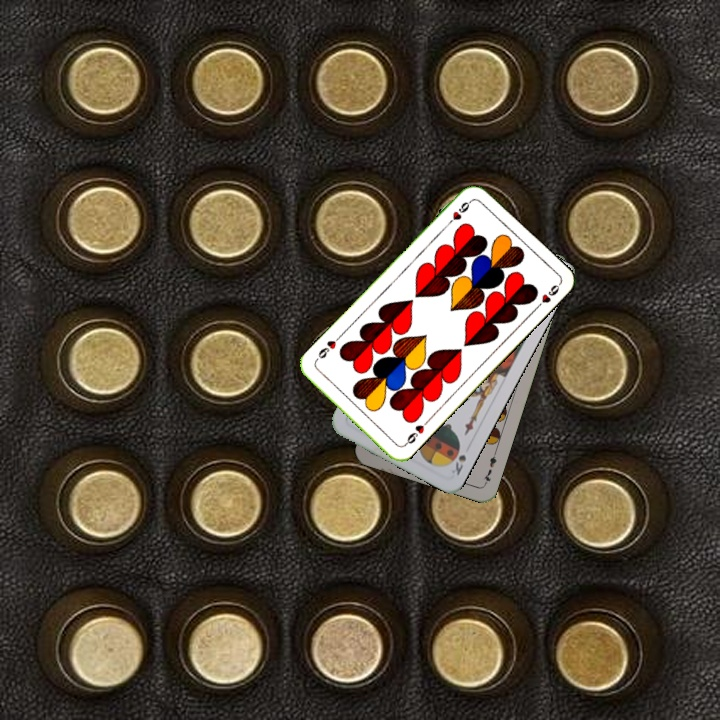E7: (479, 448, 499, 487)
H9: (399, 416, 431, 449), (443, 196, 474, 229)
SK: (446, 442, 469, 478)
